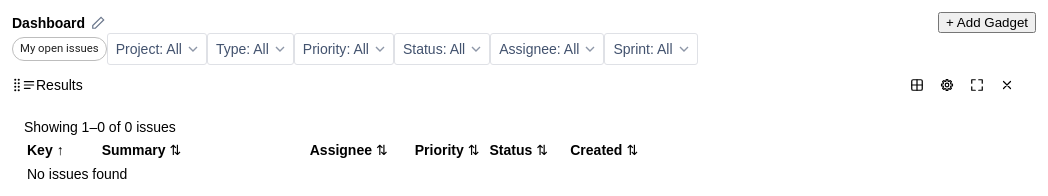
Test: JL-366 — no sprints available › renders only "All" plus the search empty state, not a broken dropdown
Expected: the text "Showing 1–0 of 0 issues" is shown, x1=24 y1=119 x2=176 y2=135
Click the button "Sprint: All".
click(651, 49)  # box x1=604 y1=33 x2=698 y2=65
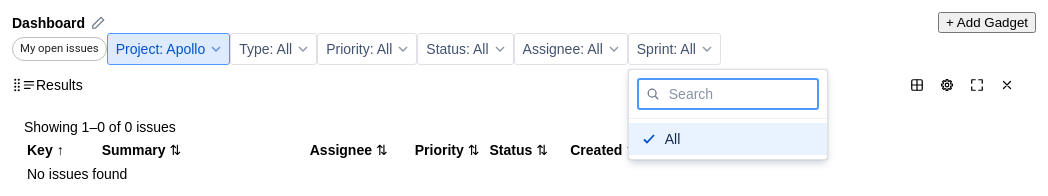
Result: the options read "All", in this order at x1=629 y1=123 x2=827 y2=155
Type "alpha" into the field with placeholder "Search".
click(728, 94); type("alpha")  # box x1=637 y1=78 x2=819 y2=110
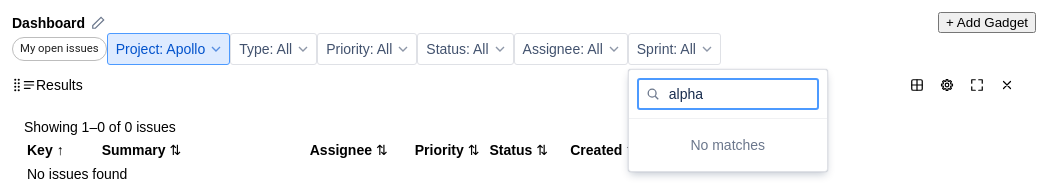
Result: the list item "No matches" is shown at x1=690 y1=137 x2=765 y2=153
